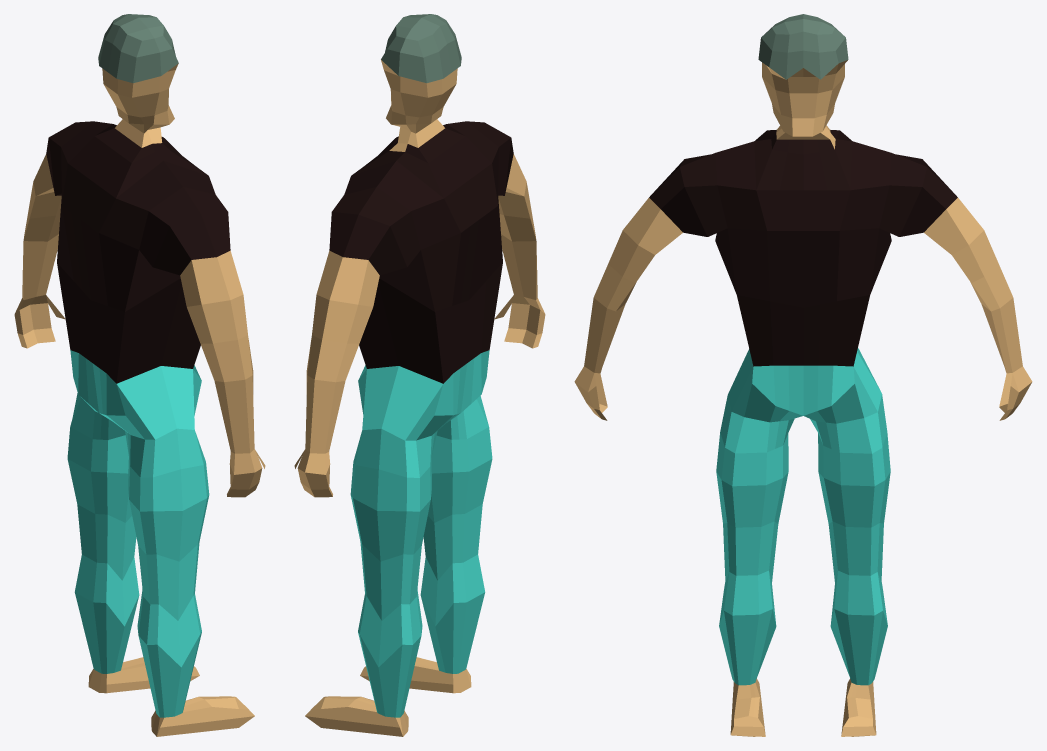
The model's file is Shopkeep.fbx.
3 views of the same model, side by side, from view 1: azimuth 30°, elevation 25°; view 2: azimuth 150°, elevation 25°; view 3: azimuth 270°, elevation 25° (orthographic).
Parts seen in each view (by area): view 1: Cube.010; view 2: Cube.010; view 3: Cube.010.
Part boxes in pixels (x1=…): Cube.010: x1=14, y1=14, x2=265, y2=736; Cube.010: x1=294, y1=14, x2=545, y2=736; Cube.010: x1=574, y1=14, x2=1032, y2=736.
Size of the model in its own units: 123 by 589 by 356.
